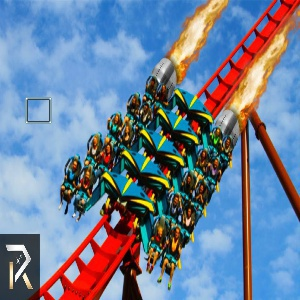square: (24, 96, 53, 124)
